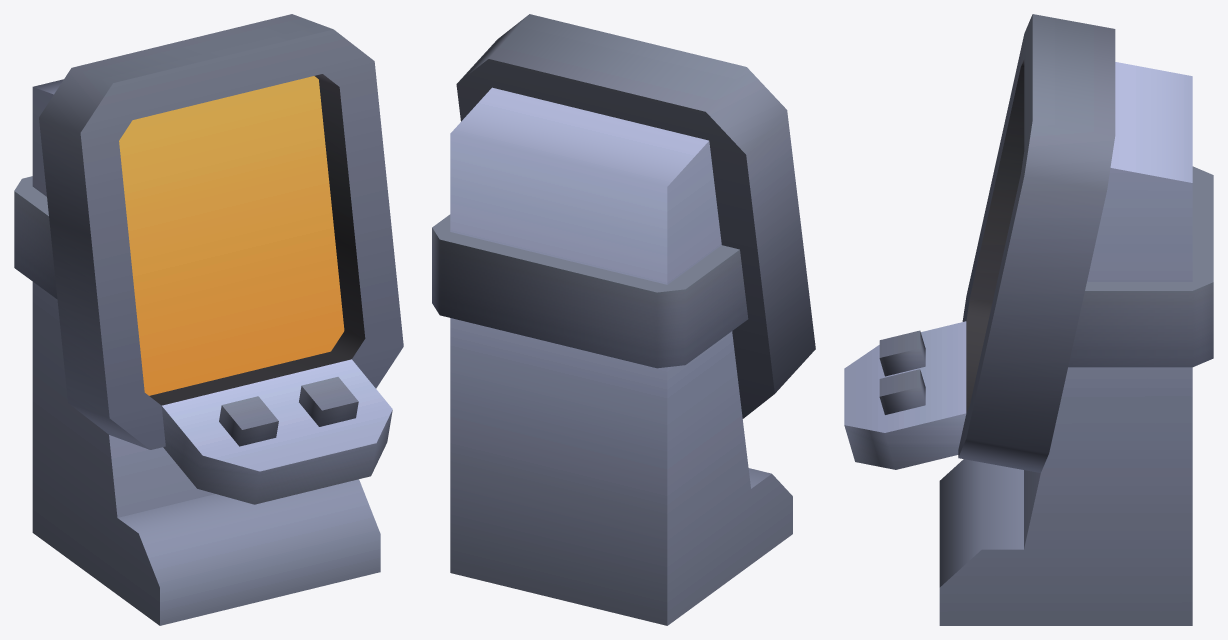
The model's file is station.computer.glb.
The picture shows the model from 3 angles, left to right: view 1: azimuth 30°, elevation 25°; view 2: azimuth 150°, elevation 25°; view 3: azimuth 270°, elevation 25°; orthographic projection.
Visible parts, largest first — view 1: computer; view 2: computer; view 3: computer.
Boxes of the visible parts, x1,y1,x2,y2 form: computer: (14,14,403,625); computer: (432,14,815,625); computer: (844,14,1213,625).
Size of the model in its own units: 0.691 by 1.14 by 0.7567.
Materials: 1 (1 with a texture image).
